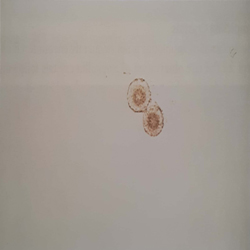Crystal: (122, 68, 155, 115), (138, 102, 167, 140)
